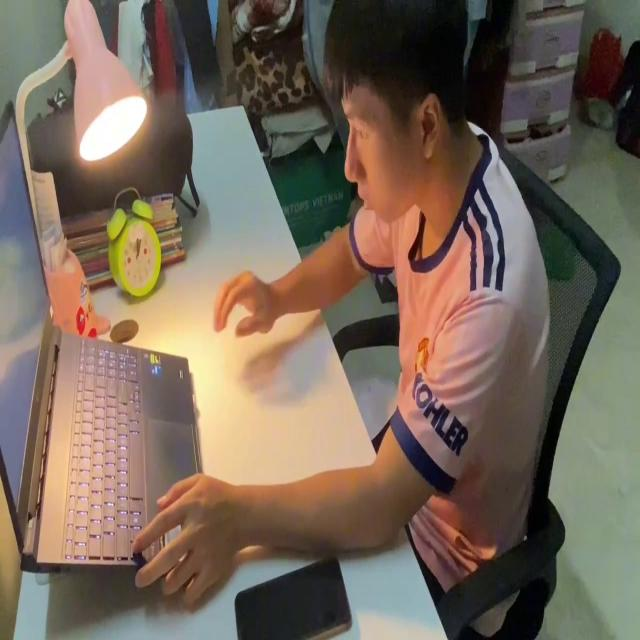book: (346, 364, 399, 436)
laptop: (0, 94, 219, 585)
phone: (232, 551, 354, 640)
student: (124, 1, 545, 640)
